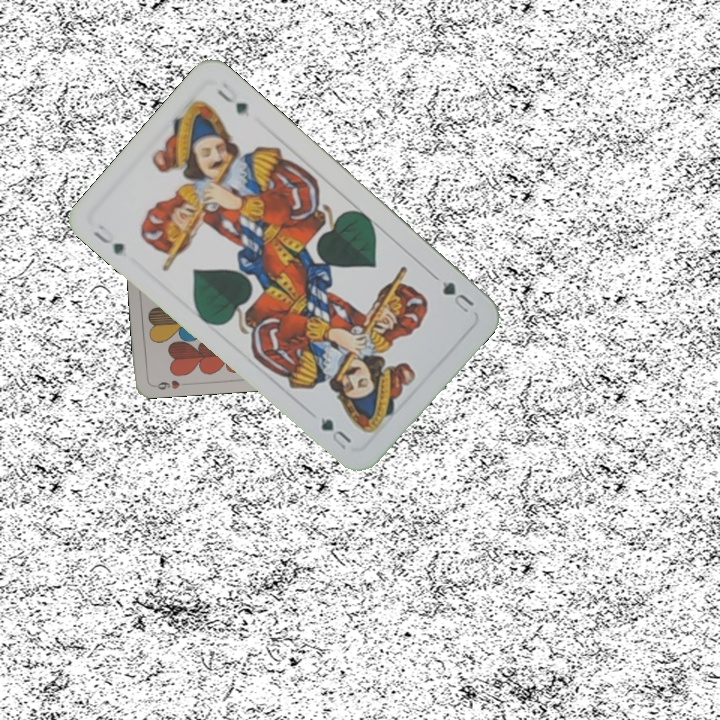GU: (430, 271, 477, 316), (89, 220, 127, 259)
H9: (149, 376, 189, 392)
